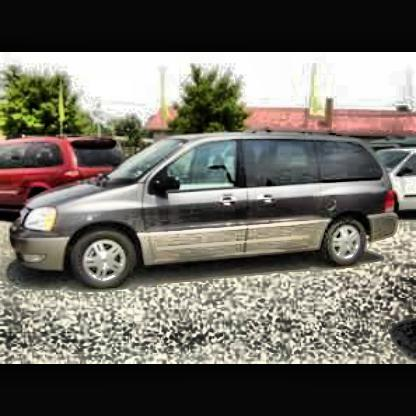Ford Freestar Minivan 2007: (11, 131, 401, 296)
